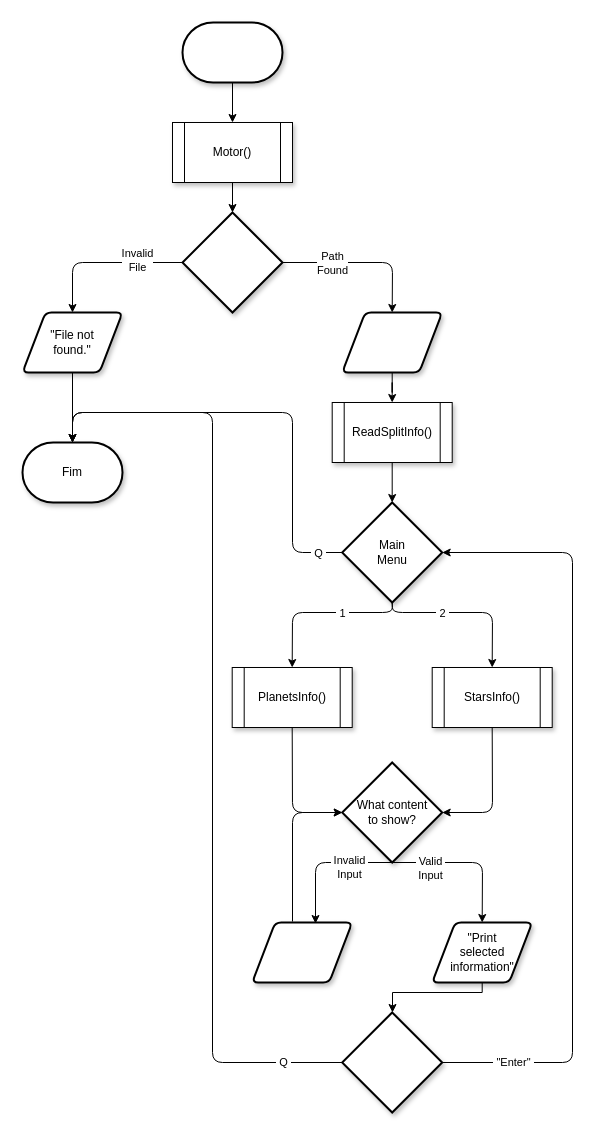
This 598x1137 diagram has some shape labels left out. Each missing label, with the centre of its shape:
"Invalid input. Try again.": point (303, 953)
Go back to Menu?: point (393, 1063)
Inicio: point (233, 53)
Read & split content from File.: point (393, 343)
What File to open?: point (233, 263)
